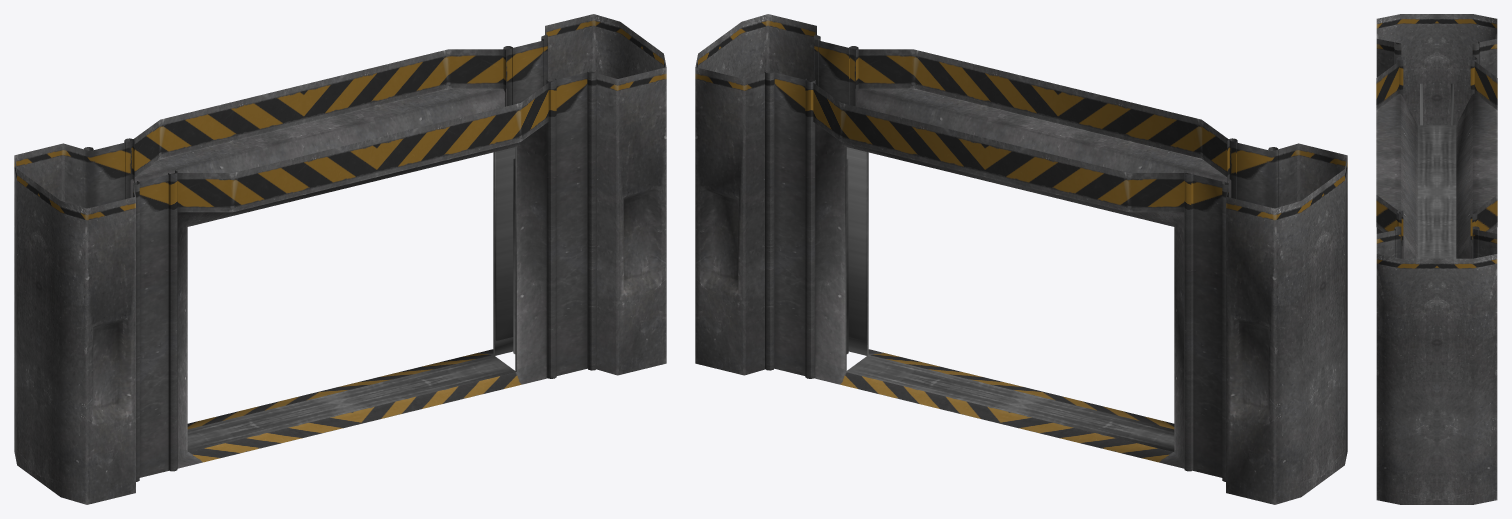
File: ContDoorFrame.obj
3 renders of one model, left to right at view 1: azimuth 30°, elevation 25°; view 2: azimuth 150°, elevation 25°; view 3: azimuth 270°, elevation 25°, orthographic. The views are drawn at different scales.
Visible parts, largest first — view 1: Group; view 2: Group; view 3: Group.
Boxes of the visible parts, x1,y1,x2,y2 form: Group: (14, 14, 666, 504); Group: (695, 14, 1347, 504); Group: (1376, 14, 1497, 504).
Size of the model in its own units: 15.97 by 7.53 by 3.35.
